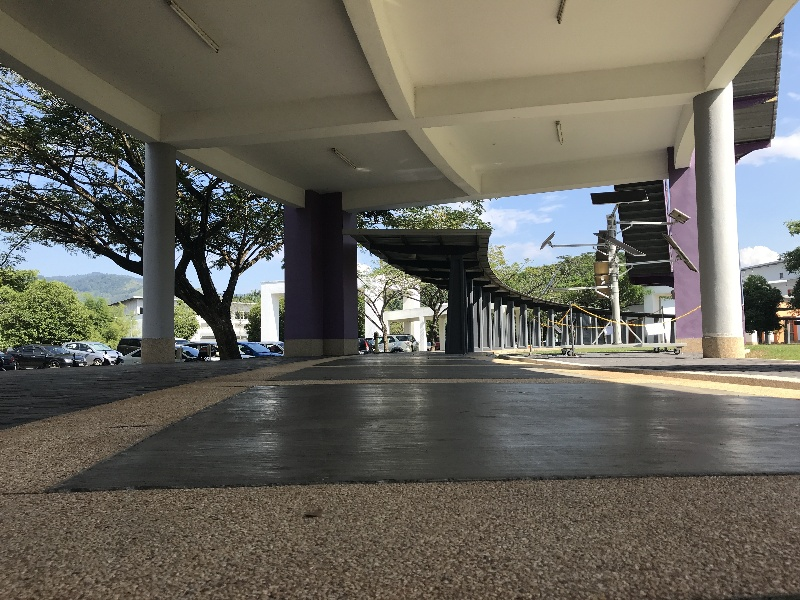Block D Pillar 5: (7, 6, 800, 546)
pillar: (687, 73, 755, 367), (273, 179, 377, 369), (120, 125, 192, 378), (658, 140, 714, 352), (444, 248, 479, 360)
